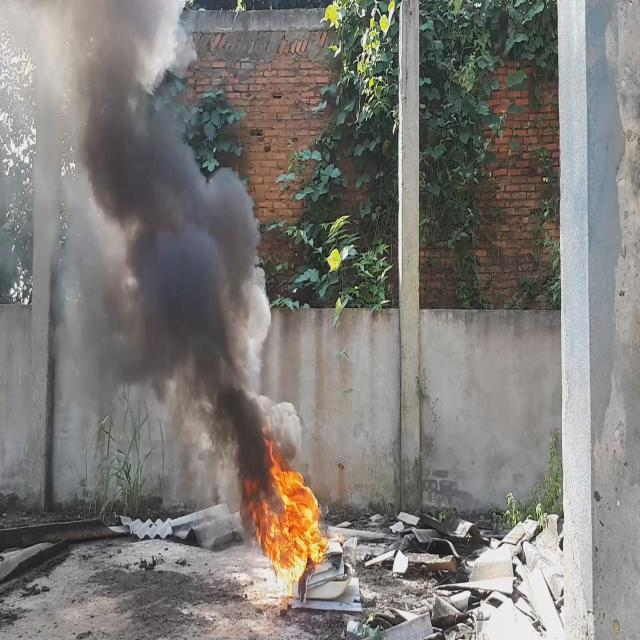Fire: (236, 428, 330, 598)
Smoke: (0, 0, 301, 507)
